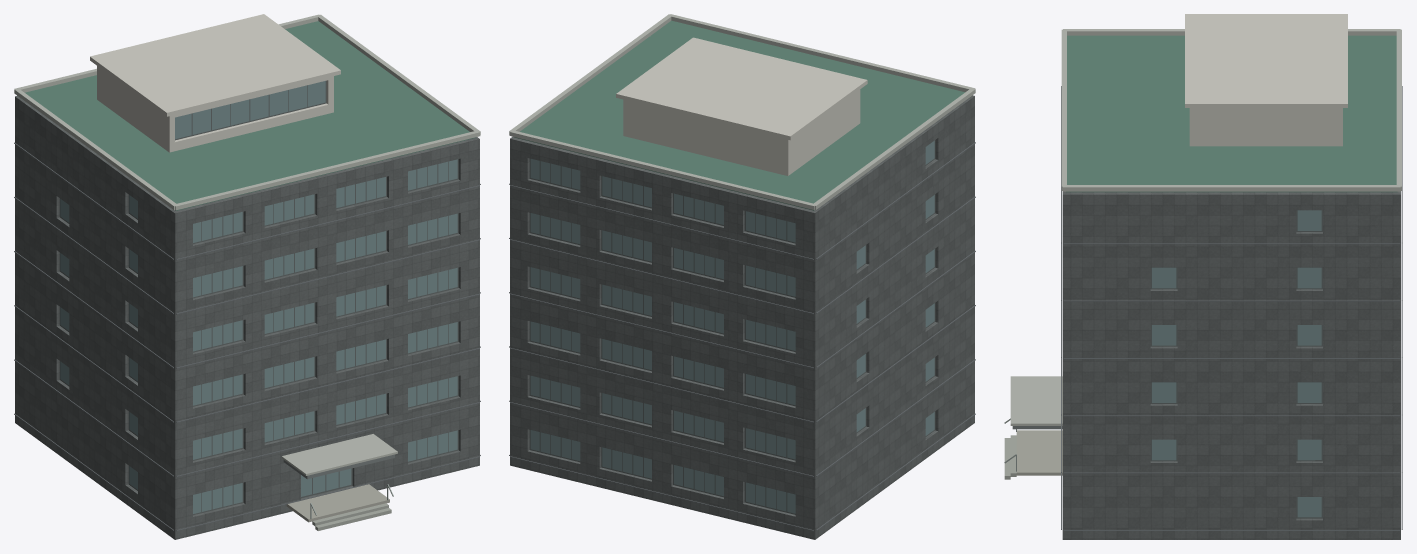
3 renders of one model, left to right at view 1: azimuth 30°, elevation 25°; view 2: azimuth 150°, elevation 25°; view 3: azimuth 270°, elevation 25°, orthographic. The views are drawn at different scales.
Visible parts, largest first — view 1: center__stone, center__glass, center__roof, center__white, center__trim, center__frame, center__panelJoint, center__threshold_entry, center; view 2: center__stone, center__glass, center__white, center__roof, center__trim, center__frame, center__panelJoint; view 3: center__stone, center__roof, center__white, center__trim, center__glass, center__panelJoint, center__threshold_entry, center__frame, center.
Part boxes in pixels (left/top/right/bottom): center__stone: left=15, top=95, right=479, bottom=539; center__glass: left=60, top=81, right=457, bottom=513; center__roof: left=25, top=21, right=475, bottom=210; center__white: left=90, top=14, right=340, bottom=152; center__trim: left=14, top=14, right=480, bottom=475; center__frame: left=59, top=80, right=458, bottom=515; center__panelJoint: left=14, top=142, right=480, bottom=531; center__threshold_entry: left=286, top=484, right=389, bottom=522; center: left=312, top=503, right=391, bottom=530; center__stone: left=510, top=95, right=974, bottom=539; center__glass: left=530, top=140, right=934, bottom=513; center__white: left=616, top=37, right=867, bottom=175; center__roof: left=514, top=20, right=964, bottom=210; center__trim: left=509, top=14, right=975, bottom=209; center__frame: left=529, top=140, right=935, bottom=514; center__panelJoint: left=509, top=142, right=975, bottom=531; center__stone: left=1062, top=191, right=1400, bottom=539; center__roof: left=1066, top=35, right=1397, bottom=192; center__white: left=1185, top=14, right=1347, bottom=146; center__trim: left=1010, top=29, right=1401, bottom=425; center__glass: left=1152, top=210, right=1321, bottom=517; center__panelJoint: left=1061, top=86, right=1402, bottom=530; center__threshold_entry: left=1016, top=430, right=1062, bottom=475; center__frame: left=1150, top=210, right=1322, bottom=518; center: left=1004, top=435, right=1016, bottom=479.
Size of the model in its own units: 19.6 by 22.69 by 20.78.
12 materials, 1 textured.
